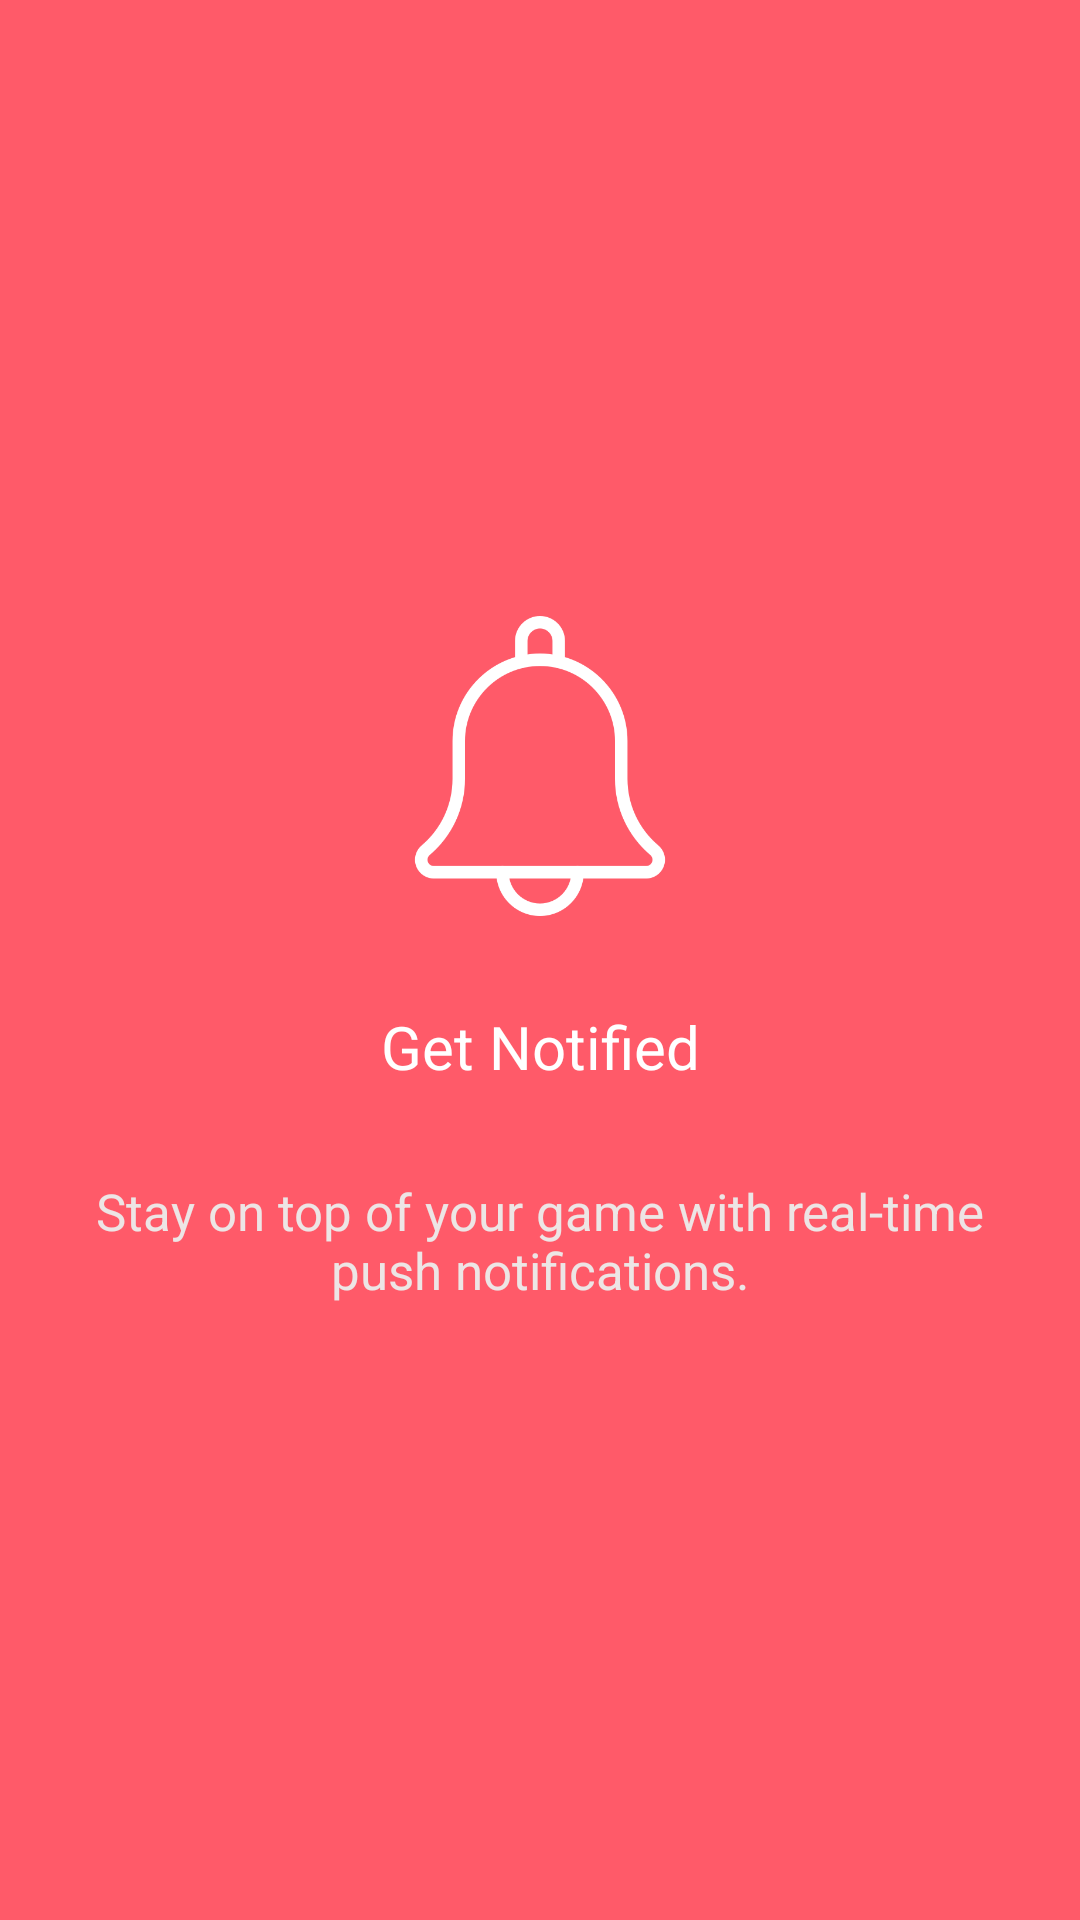

Named icons in this screenshot (1080px x 1920px) and their centers, point (x, y):
notify: point (540, 766)
